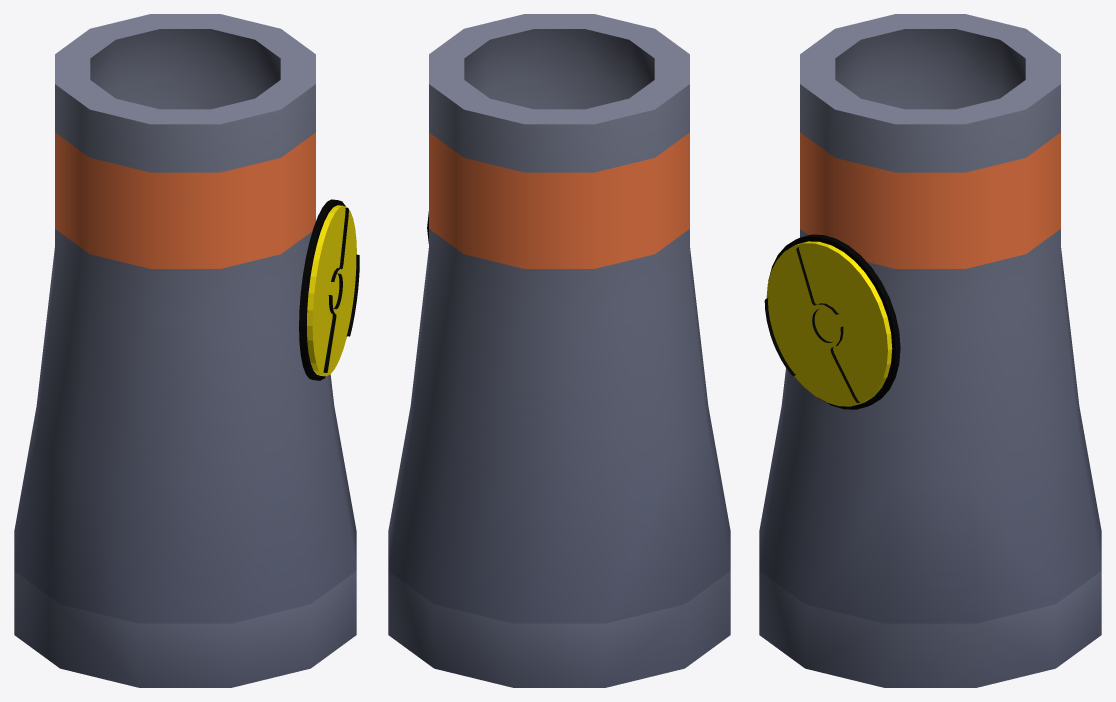
The model's file is nuke_factory.glb.
3 views of the same model, side by side, from view 1: azimuth 30°, elevation 25°; view 2: azimuth 150°, elevation 25°; view 3: azimuth 270°, elevation 25° (orthographic).
Visible parts, largest first — view 1: chimney-large; view 2: chimney-large; view 3: chimney-large.
Part boxes in pixels (x1,y1,x2,y2): chimney-large: (14,14,359,687); chimney-large: (388,14,730,687); chimney-large: (759,14,1101,687).
Bounding box in the file's own units: 0.9743 × 1.7 × 0.9659.
4 materials, 1 textured.
